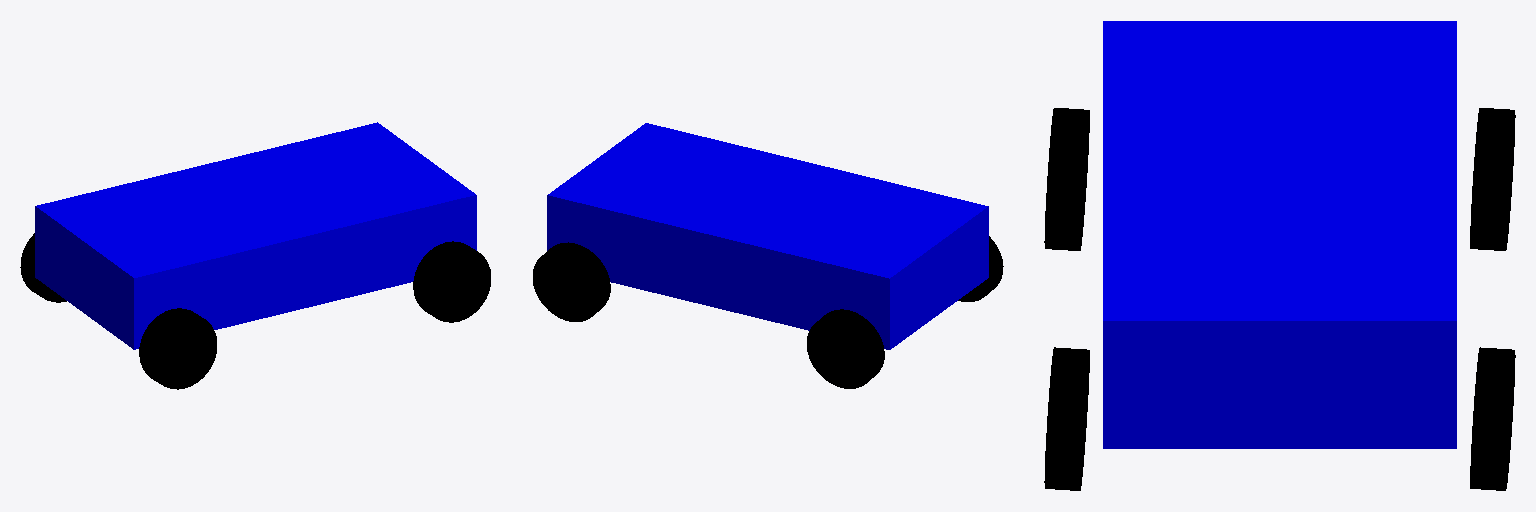
The robot description file, URDF, robot "robot4":
<?xml version="1.0"?>
<robot name="robot4">
  <!-- Base Link -->
  <link name="base_link">
    <visual>
      <geometry>
        <box size="1.0 0.5 0.2"/>
      </geometry>
      <material name="blue">
        <color rgba="0 0 1 1"/>
      </material>
    </visual>
    <collision>
      <geometry>
        <box size="1.0 0.5 0.2"/>
      </geometry>
    </collision>
    <inertial>
      <mass value="5.0"/>
      <inertia ixx="0.1" ixy="0.0" ixz="0.0" iyy="0.1" iyz="0.0" izz="0.1"/>
    </inertial>
  </link>

  <!-- Front Left Wheel -->
  <link name="front_left_wheel">
    <visual>
      <geometry>
        <cylinder radius="0.1" length="0.05"/>
      </geometry>
      <material name="black">
        <color rgba="0 0 0 1"/>
      </material>
    </visual>
    <collision>
      <geometry>
        <cylinder radius="0.1" length="0.05"/>
      </geometry>
    </collision>
    <inertial>
      <mass value="1.0"/>
      <inertia ixx="0.01" ixy="0.0" ixz="0.0" iyy="0.01" iyz="0.0" izz="0.01"/>
    </inertial>
  </link>

  <!-- Front Right Wheel -->
  <link name="front_right_wheel">
    <visual>
      <geometry>
        <cylinder radius="0.1" length="0.05"/>
      </geometry>
      <material name="black">
        <color rgba="0 0 0 1"/>
      </material>
    </visual>
    <collision>
      <geometry>
        <cylinder radius="0.1" length="0.05"/>
      </geometry>
    </collision>
    <inertial>
      <mass value="1.0"/>
      <inertia ixx="0.01" ixy="0.0" ixz="0.0" iyy="0.01" iyz="0.0" izz="0.01"/>
    </inertial>
  </link>

  <!-- Rear Left Wheel -->
  <link name="rear_left_wheel">
    <visual>
      <geometry>
        <cylinder radius="0.1" length="0.05"/>
      </geometry>
      <material name="black">
        <color rgba="0 0 0 1"/>
      </material>
    </visual>
    <collision>
      <geometry>
        <cylinder radius="0.1" length="0.05"/>
      </geometry>
    </collision>
    <inertial>
      <mass value="1.0"/>
      <inertia ixx="0.01" ixy="0.0" ixz="0.0" iyy="0.01" iyz="0.0" izz="0.01"/>
    </inertial>
  </link>

  <!-- Rear Right Wheel -->
  <link name="rear_right_wheel">
    <visual>
      <geometry>
        <cylinder radius="0.1" length="0.05"/>
      </geometry>
      <material name="black">
        <color rgba="0 0 0 1"/>
      </material>
    </visual>
    <collision>
      <geometry>
        <cylinder radius="0.1" length="0.05"/>
      </geometry>
    </collision>
    <inertial>
      <mass value="1.0"/>
      <inertia ixx="0.01" ixy="0.0" ixz="0.0" iyy="0.01" iyz="0.0" izz="0.01"/>
    </inertial>
  </link>

  <!-- Joints -->
  <joint name="front_left_joint" type="continuous">
    <parent link="base_link"/>
    <child link="front_left_wheel"/>
    <origin xyz="0.4 0.3 -0.1" rpy="1.5 0 0"/>
    <axis xyz="0 0 1"/>
  </joint>

  <joint name="front_right_joint" type="continuous">
    <parent link="base_link"/>
    <child link="front_right_wheel"/>
    <origin xyz="0.4 -0.3 -0.1" rpy="1.5 0 0"/>
    <axis xyz="0 0 1"/>
  </joint>

  <joint name="rear_left_joint" type="continuous">
    <parent link="base_link"/>
    <child link="rear_left_wheel"/>
    <origin xyz="-0.4 0.3 -0.1" rpy="1.5 0 0"/>
    <axis xyz="0 0 1"/>
  </joint>

  <joint name="rear_right_joint" type="continuous">
    <parent link="base_link"/>
    <child link="rear_right_wheel"/>
    <origin xyz="-0.4 -0.3 -0.1" rpy="1.5 0 0"/>
    <axis xyz="0 0 1"/>
  </joint>

  <gazebo>
    <plugin name="gazebo_ros_diff_drive4" filename="libgazebo_ros_diff_drive.so">
      <ros>
        <namespace>/</namespace>
        <remapping>cmd_vel:=cmd_vel</remapping>
      </ros>
      <commandTopic>cmd_vel</commandTopic>
      <odometryTopic>odom</odometryTopic>
      <robotBaseFrame>base_link</robotBaseFrame>
      <left_joint>rear_left_joint</left_joint>
      <right_joint>rear_right_joint</right_joint>
    </plugin>
  </gazebo>
</robot>

--- Render facts (derived) ---
The picture shows the robot from 3 angles, left to right: view 1: azimuth 30°, elevation 25°; view 2: azimuth 150°, elevation 25°; view 3: azimuth 270°, elevation 25°; orthographic projection.
Model robot4 with 5 links and 4 joints (4 continuous), rooted at base_link, posed every joint at zero.
Visible links, largest first — view 1: base_link, rear_right_wheel, front_right_wheel, rear_left_wheel; view 2: base_link, front_left_wheel, rear_left_wheel, rear_right_wheel; view 3: base_link, front_right_wheel, rear_right_wheel, rear_left_wheel, front_left_wheel.
Boxes of the visible links, left/top/right/bottom form: base_link: left=35, top=122, right=476, bottom=349; rear_right_wheel: left=139, top=308, right=216, bottom=389; front_right_wheel: left=413, top=241, right=490, bottom=322; rear_left_wheel: left=20, top=233, right=66, bottom=302; base_link: left=547, top=123, right=988, bottom=349; front_left_wheel: left=533, top=242, right=610, bottom=321; rear_left_wheel: left=807, top=309, right=884, bottom=388; rear_right_wheel: left=958, top=236, right=1003, bottom=301; base_link: left=1103, top=21, right=1456, bottom=448; front_right_wheel: left=1044, top=347, right=1089, bottom=490; rear_right_wheel: left=1044, top=108, right=1089, bottom=250; rear_left_wheel: left=1470, top=108, right=1515, bottom=250; front_left_wheel: left=1470, top=347, right=1515, bottom=490.
Bounding box of the posed robot: 1 × 0.664 × 0.3015 m (x, y, z).
Geometry: primitives only (box / cylinder / sphere), no mesh files.